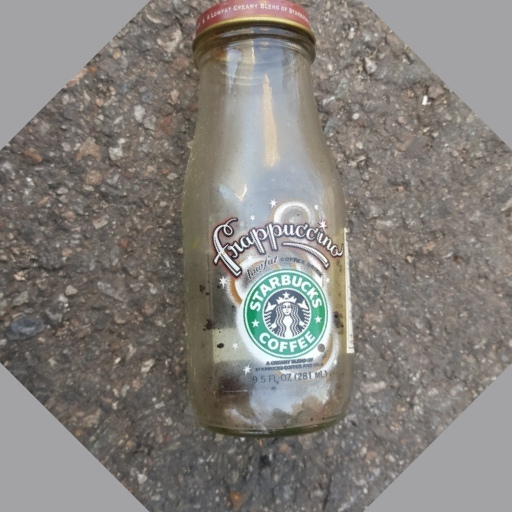Glass_4: (185, 3, 361, 434)
